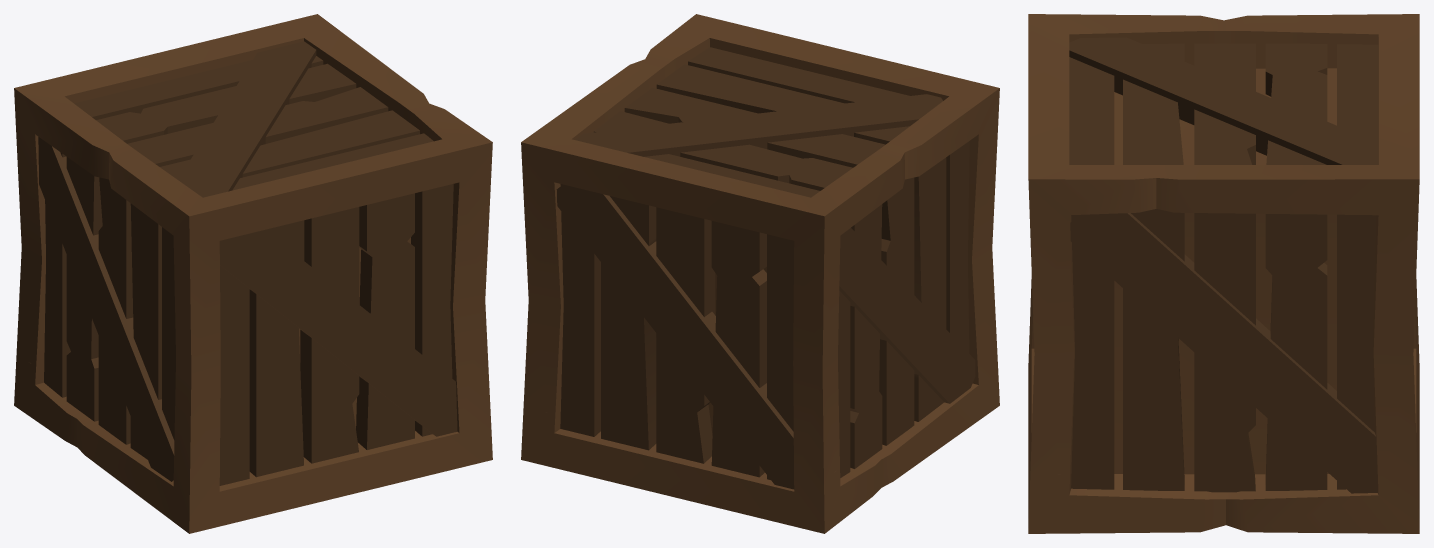
The model's file is crate-yard.glb.
3 renders of one model, left to right at view 1: azimuth 30°, elevation 25°; view 2: azimuth 150°, elevation 25°; view 3: azimuth 270°, elevation 25°, orthographic. The views are drawn at different scales.
Visible parts, largest first — view 1: crate-yard; view 2: crate-yard; view 3: crate-yard.
Part boxes in pixels (x1,y1,x2,y2): crate-yard: (14,14,492,533); crate-yard: (521,14,999,533); crate-yard: (1028,14,1419,533).
Bounding box in the file's own units: 0.1603 × 0.1602 × 0.1603.
